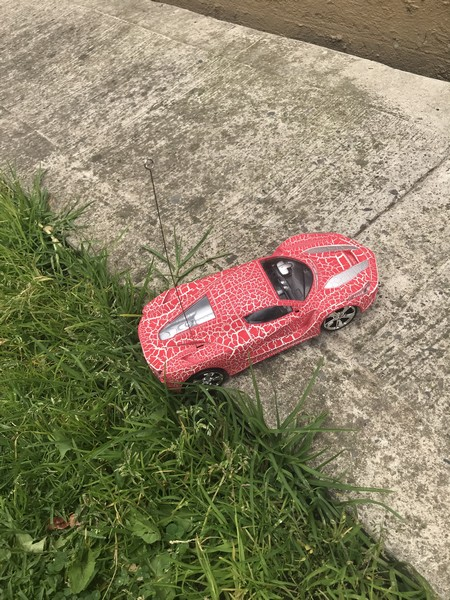RC: (135, 232, 380, 396)
